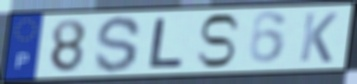6: (248, 9, 291, 70)
8: (49, 18, 88, 74)
K: (297, 11, 340, 65)
L: (146, 17, 186, 70)
S: (92, 14, 144, 75), (194, 13, 242, 70)
